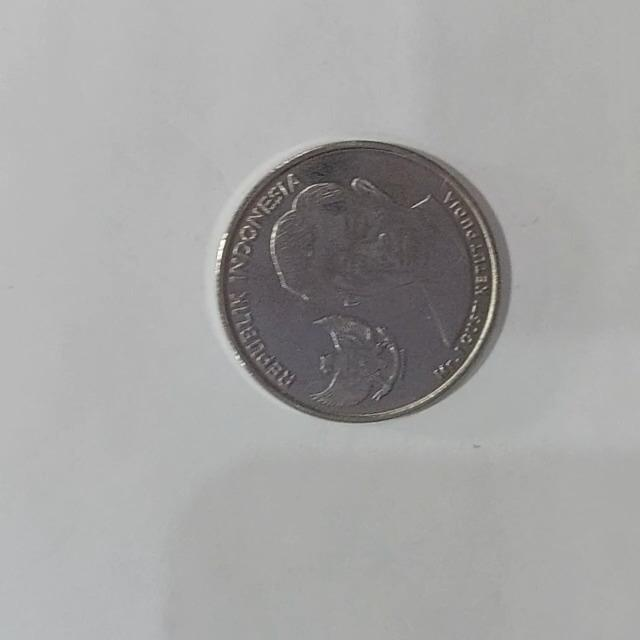Rp100: (214, 137, 503, 423)
